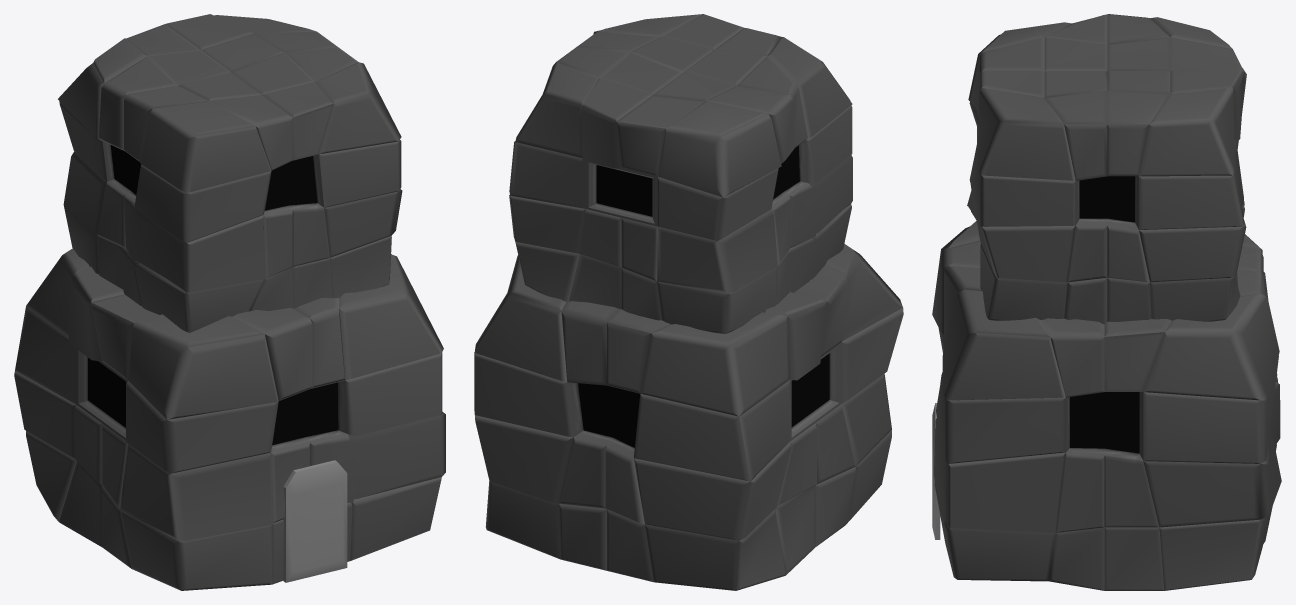
The model's file is Mesh_House_final2_Temple_TL.fbx.
3 views of the same model, side by side, from view 1: azimuth 30°, elevation 25°; view 2: azimuth 150°, elevation 25°; view 3: azimuth 270°, elevation 25° (orthographic). The views are drawn at different scales.
Parts seen in each view (by area): view 1: Mesh_House_final2_Temple_TL; view 2: Mesh_House_final2_Temple_TL; view 3: Mesh_House_final2_Temple_TL.
Part boxes in pixels (box(x1,y1,x2,y2)): Mesh_House_final2_Temple_TL: box(14, 14, 445, 590); Mesh_House_final2_Temple_TL: box(474, 14, 903, 590); Mesh_House_final2_Temple_TL: box(932, 14, 1281, 590).
Bounding box in the file's own units: 669 × 980 × 672.
1 material, 1 textured.
